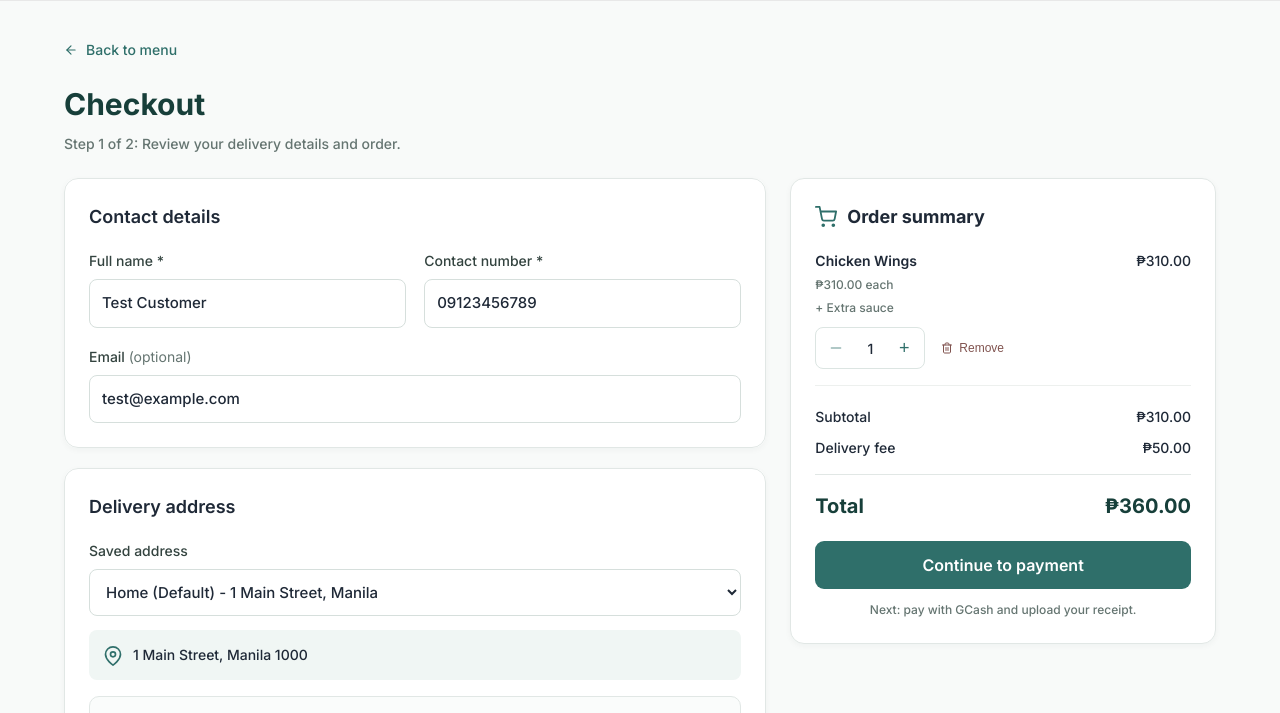
Test: payment is a separate step and back preserves delivery details
The width and height of the screenshot is (1280, 713).
Expected: the button "Show QR code" is not shown
Click the button "Continue to payment".
click(1003, 565)  # box [815, 541, 1191, 589]
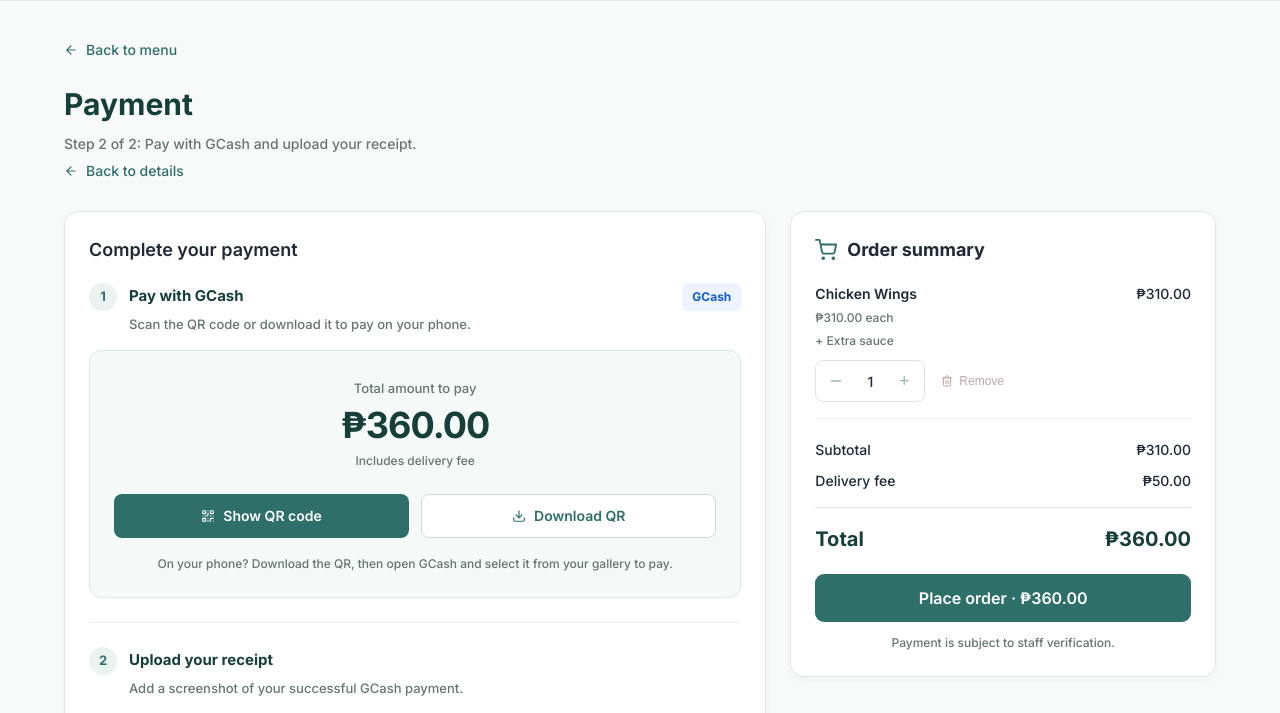
Now the heading "Payment" is shown, box [64, 86, 193, 122]
Now the button named "Increase CHICKEN WINGS quantity" is disabled, box [884, 361, 924, 401]
Click the button "Back to details".
click(124, 170)  # box [64, 154, 184, 187]
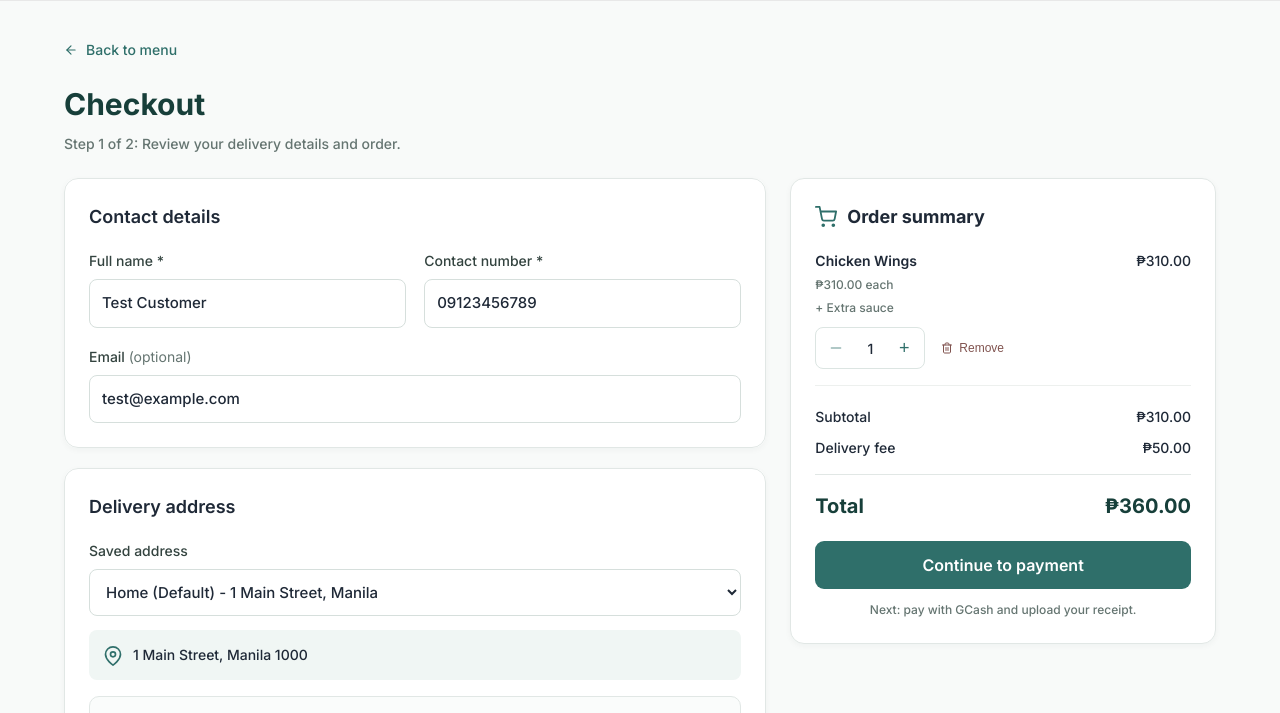
Now the field labelled "Full name *" holds "Test Customer", box [89, 279, 406, 328]
Now the button "Continue to payment" is shown, box [815, 541, 1191, 589]
